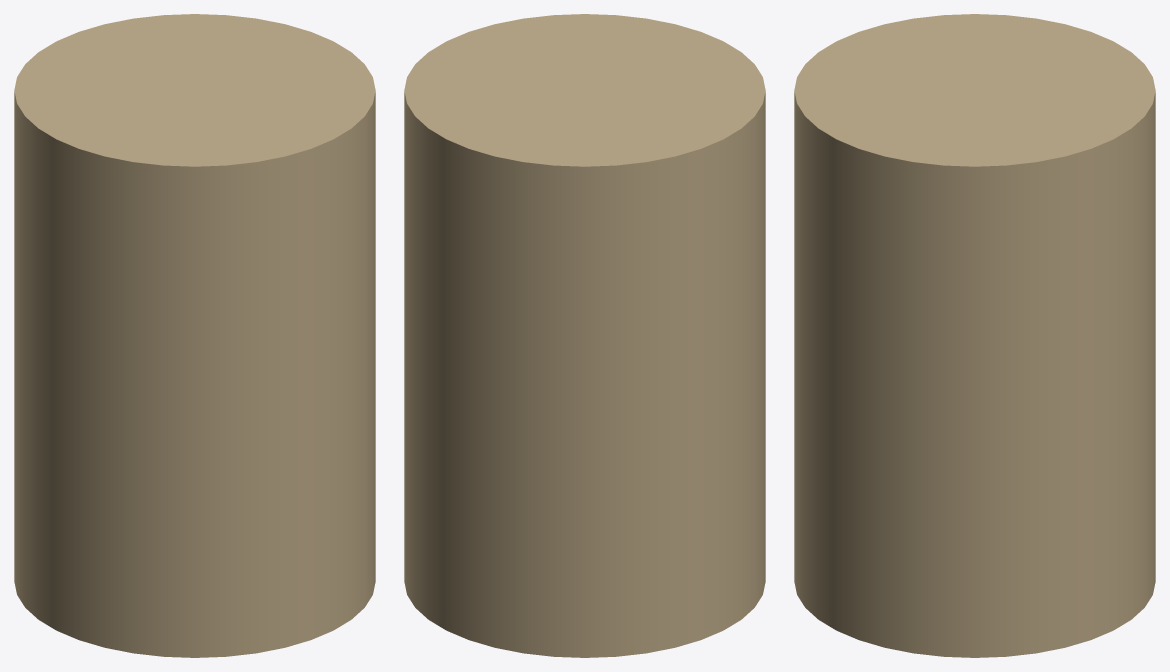
3 views of the same model, side by side, from view 1: azimuth 30°, elevation 25°; view 2: azimuth 150°, elevation 25°; view 3: azimuth 270°, elevation 25° (orthographic).
Size of the model in its own units: 1 by 1.5 by 1.
